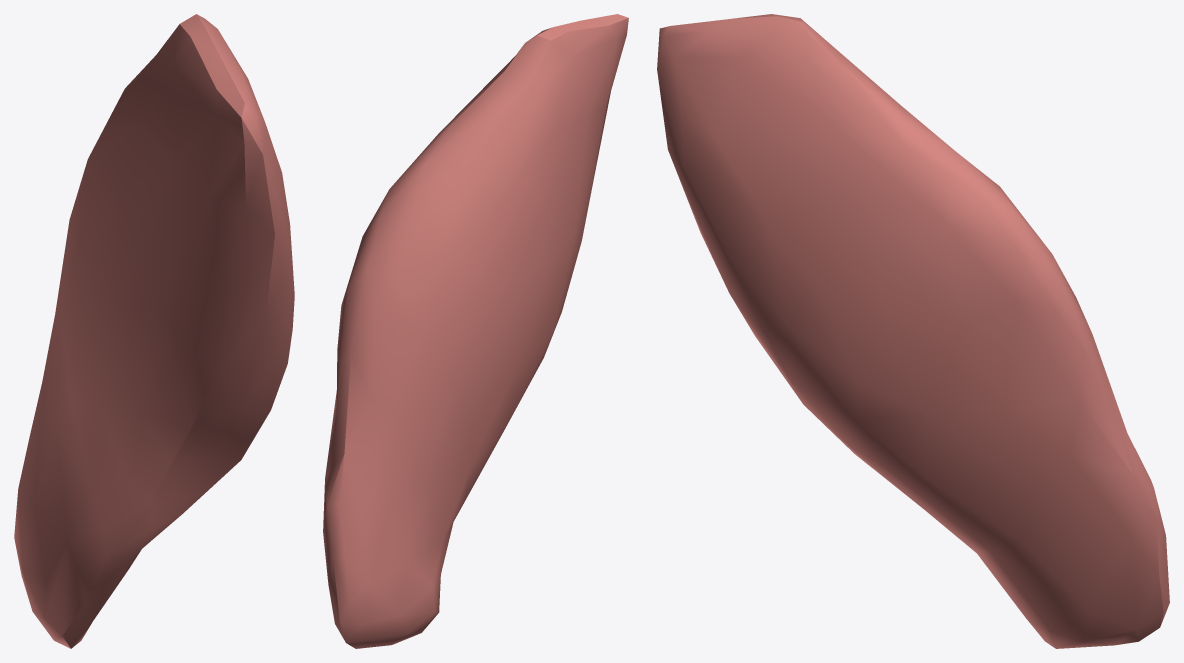
The model's file is fma81583_mm2378.glb.
3 views of the same model, side by side, from view 1: azimuth 30°, elevation 25°; view 2: azimuth 150°, elevation 25°; view 3: azimuth 270°, elevation 25° (orthographic). The views are drawn at different scales.
Parts seen in each view (by area): view 1: FMA81583_MM2378; view 2: FMA81583_MM2378; view 3: FMA81583_MM2378.
Part boxes in pixels (x1,y1,x2,y2): FMA81583_MM2378: (14, 14, 294, 648); FMA81583_MM2378: (323, 14, 628, 648); FMA81583_MM2378: (657, 14, 1169, 648).
Size of the model in its own units: 0.00563 by 0.023 by 0.0174.
